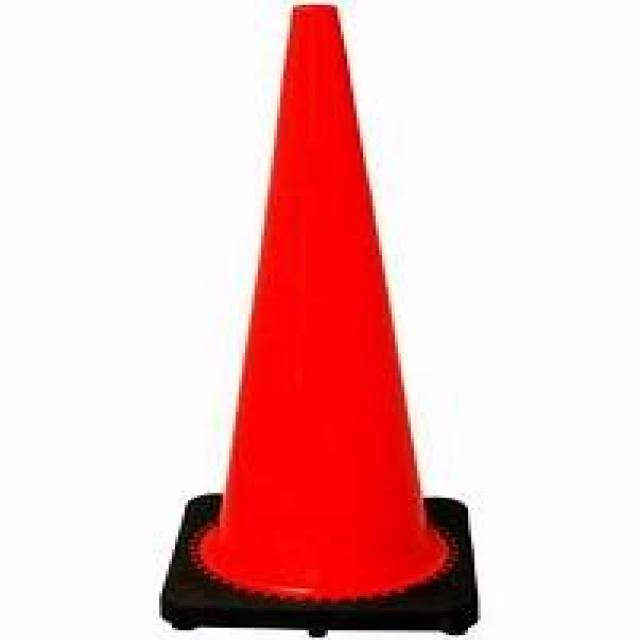traffic cone: (134, 1, 498, 639)
